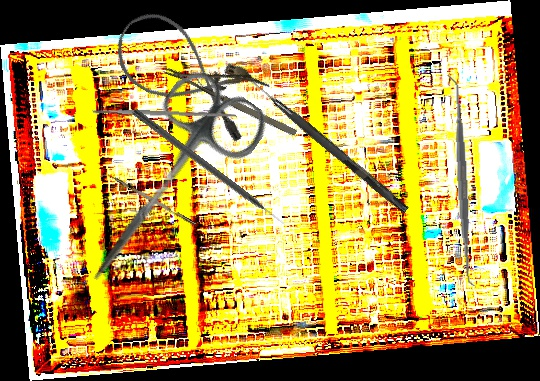Cannula: (101, 0, 275, 148)
Chopper: (99, 169, 197, 230)
Hook Surgical: (238, 71, 411, 214), (130, 108, 287, 229)
Iris Scissors: (57, 60, 275, 312)
Needle Holder: (162, 40, 309, 141)
Scalpel Handle: (91, 107, 238, 119)
Spatula Surgical: (444, 74, 480, 287)
